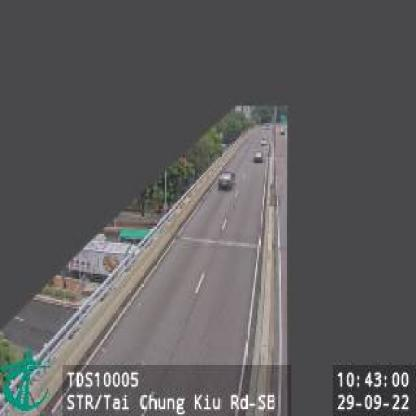Car: (217, 168, 235, 191), (252, 147, 262, 163), (260, 133, 266, 144)
